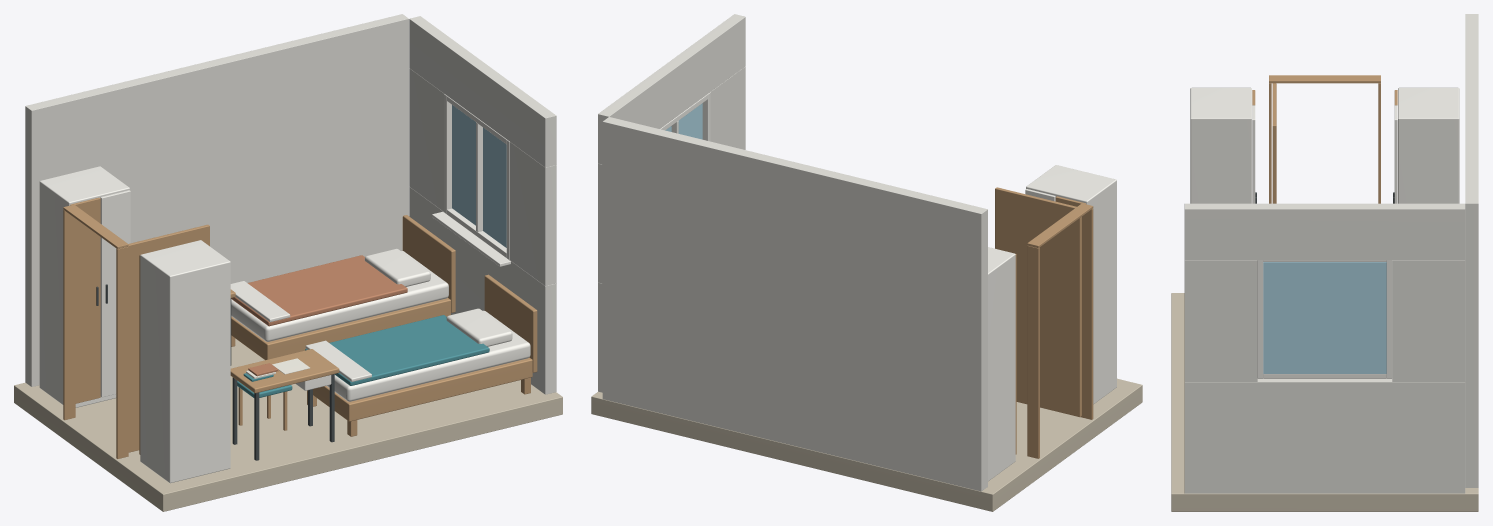
File: dormitory_cutaway.glb
3 renders of one model, left to right at view 1: azimuth 30°, elevation 25°; view 2: azimuth 150°, elevation 25°; view 3: azimuth 270°, elevation 25°, orthographic. The views are drawn at different scales.
Parts seen in each view (by area): view 1: Wall_North, Floor_4x2_5, Wardrobe_1_Case, Wall_East_Upper, Wardrobe_2_Case, Wall_East_Lower, Bed_2_Duvet, Bed_1_Duvet, Wall_East_Pier_0.325, Window_Glass, Wardrobe_2_SlidingPanel_0, Bed_1_Frame (+19 smaller); view 2: Wall_North, Floor_4x2_5, Door_Leaf_0_90m, Wall_East_Upper, Wardrobe_1_Case, Wardrobe_2_Case, Door_Jamb_1.7375, Door_Jamb_0.7625, Wall_East_Pier_0.325, Door_Header, Window_Glass; view 3: Wall_East_Lower, Wall_East_Upper, Window_Glass, Wall_East_Pier_0.325, Wall_East_Pier_2.175, Floor_4x2_5, Wardrobe_1_Case, Wardrobe_2_Case, Wall_North, Door_Header, Window_Frame_V_0.675, Window_Frame_V_1.825 (+6 smaller).
Part boxes in pixels (box(x1,y1,x2,y2)): Wall_North: box(25, 14, 408, 386); Floor_4x2_5: box(14, 338, 562, 511); Wardrobe_1_Case: box(140, 240, 230, 483); Wall_East_Upper: box(409, 16, 556, 167); Wardrobe_2_Case: box(39, 166, 129, 407); Wall_East_Lower: box(409, 187, 556, 394); Bed_2_Duvet: box(231, 255, 407, 326); Bed_1_Duvet: box(305, 315, 489, 385); Wall_East_Pier_0.325: box(510, 142, 556, 285); Window_Glass: box(452, 105, 506, 247); Wardrobe_2_SlidingPanel_0: box(70, 197, 100, 403); Bed_1_Frame: box(307, 357, 532, 421); Wall_North: box(602, 117, 987, 491); Floor_4x2_5: box(591, 378, 1142, 511); Door_Leaf_0_90m: box(995, 187, 1081, 417); Wall_East_Upper: box(598, 14, 745, 164); Wardrobe_1_Case: box(1026, 165, 1116, 404); Wardrobe_2_Case: box(988, 247, 1015, 481); Door_Jamb_1.7375: box(1027, 245, 1039, 458); Door_Jamb_0.7625: box(1081, 208, 1093, 419); Wall_East_Pier_0.325: box(710, 66, 745, 149); Door_Header: box(1027, 203, 1093, 248); Window_Glass: box(665, 103, 702, 139); Wall_East_Lower: box(1184, 378, 1465, 493); Wall_East_Upper: box(1184, 203, 1465, 259); Window_Glass: box(1263, 262, 1386, 373); Wall_East_Pier_0.325: box(1184, 260, 1257, 381); Wall_East_Pier_2.175: box(1392, 260, 1465, 381); Floor_4x2_5: box(1171, 293, 1478, 511); Wardrobe_1_Case: box(1190, 87, 1251, 203); Wardrobe_2_Case: box(1398, 87, 1459, 203); Wall_North: box(1465, 14, 1478, 487); Door_Header: box(1269, 75, 1380, 83); Window_Frame_V_0.675: box(1257, 260, 1263, 378); Window_Frame_V_1.825: box(1386, 260, 1392, 378).
Size of the model in its own units: 4.24 by 2.98 by 2.74.
